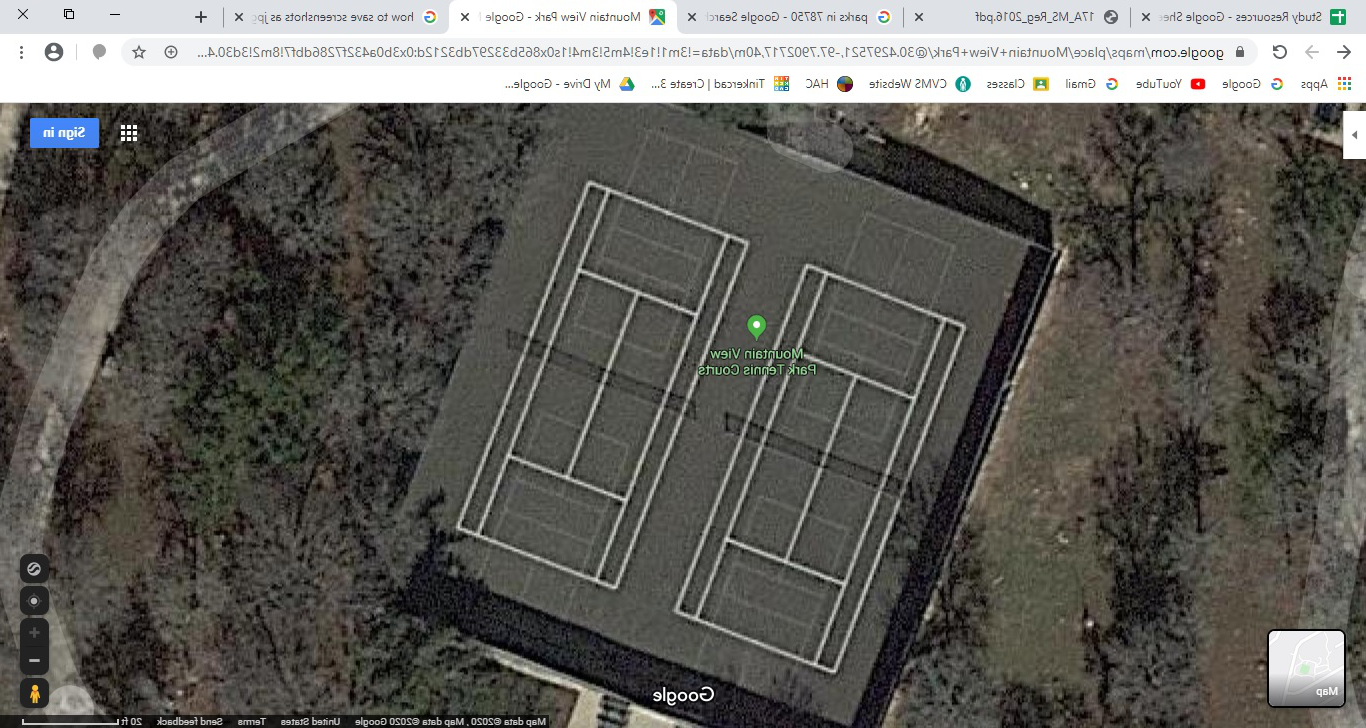tennis: (532, 170, 728, 560)
